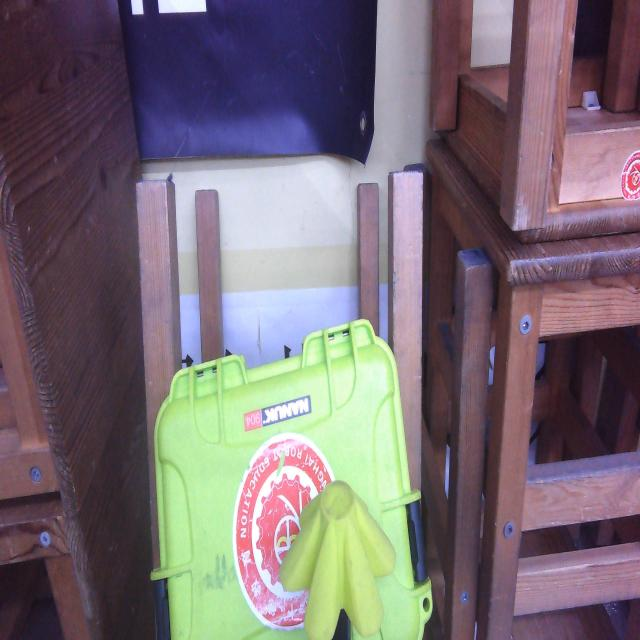Yellow-Stake-Head: (280, 479, 396, 640)
